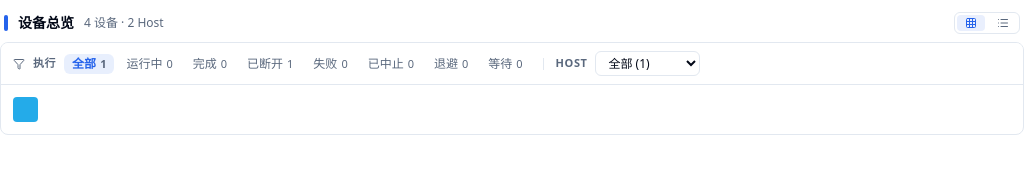
Test: DeviceOverview › renders unknown status pill distinct from failed
Click the button with test id "device-overview-table-btn" at {"x": 1003, "y": 23}, box [989,15,1017,31]
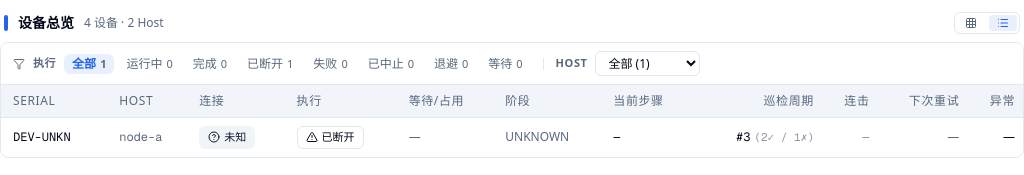
expect the button with test id "device-row-3009" shows "已断开": met, box [1,118,1023,156]
